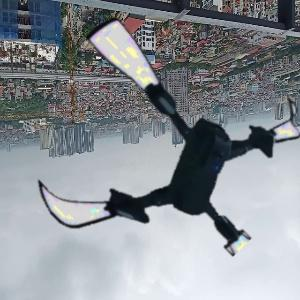drone: (30, 13, 293, 276)
